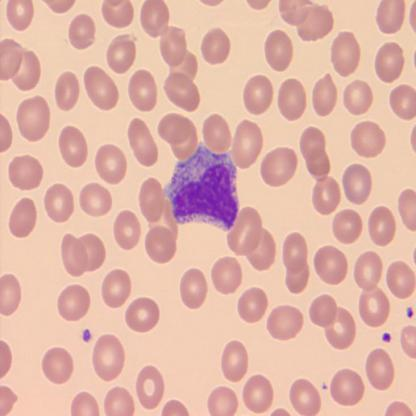Metamyelocyte: (160, 136, 243, 233)
